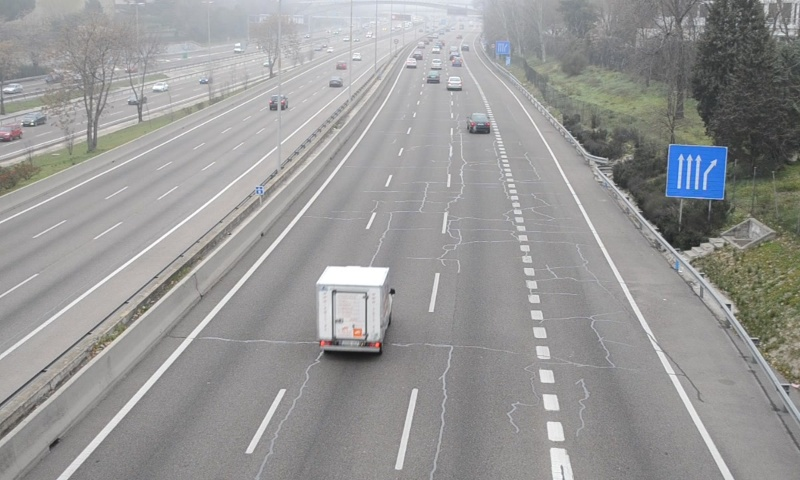car: (468, 111, 492, 132)
small-truck: (314, 266, 394, 354)
